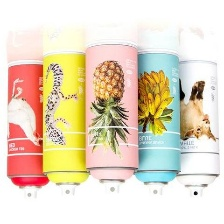aerosol_cans: (82, 38, 141, 198), (126, 47, 183, 198), (39, 47, 95, 199), (3, 57, 58, 203), (170, 57, 221, 203)
